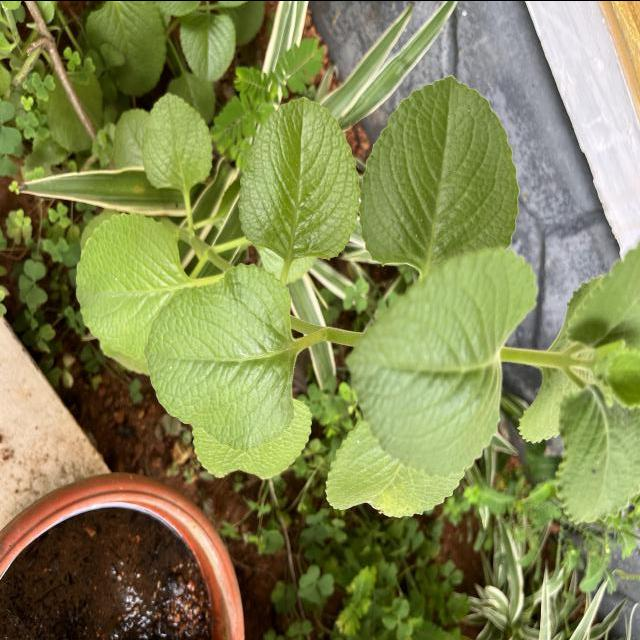Plectranthus barbatus: (342, 243, 540, 478), (358, 73, 520, 269), (142, 261, 296, 452), (236, 94, 362, 260), (75, 210, 182, 360), (324, 420, 464, 520), (141, 91, 214, 190), (179, 9, 237, 81)
